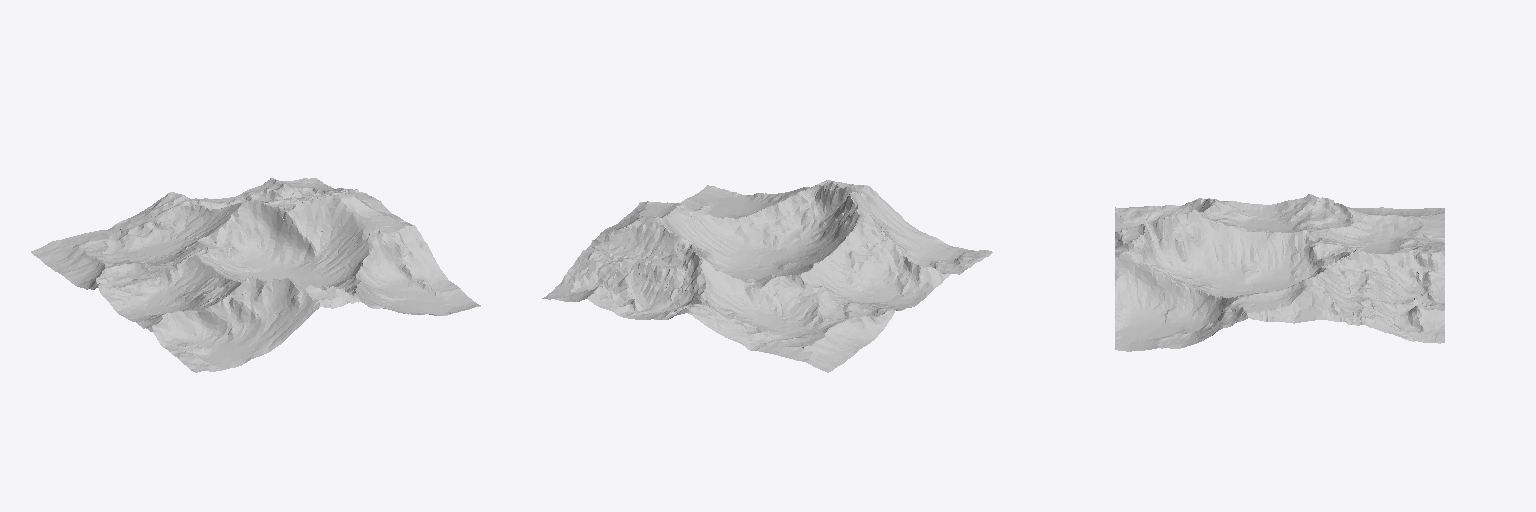
File: terrain2.obj
3 views of the same model, side by side, from view 1: azimuth 30°, elevation 25°; view 2: azimuth 150°, elevation 25°; view 3: azimuth 270°, elevation 25° (orthographic).
Parts seen in each view (by area): view 1: terrain; view 2: terrain; view 3: terrain.
Boxes of the visible parts, <box> form: terrain: <box>31,178,480,372</box>; terrain: <box>542,180,992,372</box>; terrain: <box>1115,194,1444,351</box>.
Bounding box in the file's own units: 9.29 × 1.65 × 9.29.